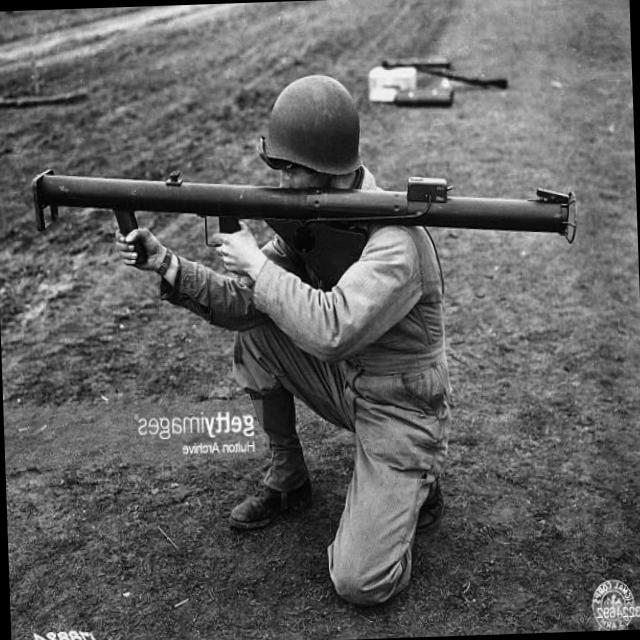rocket: (32, 144, 580, 257)
